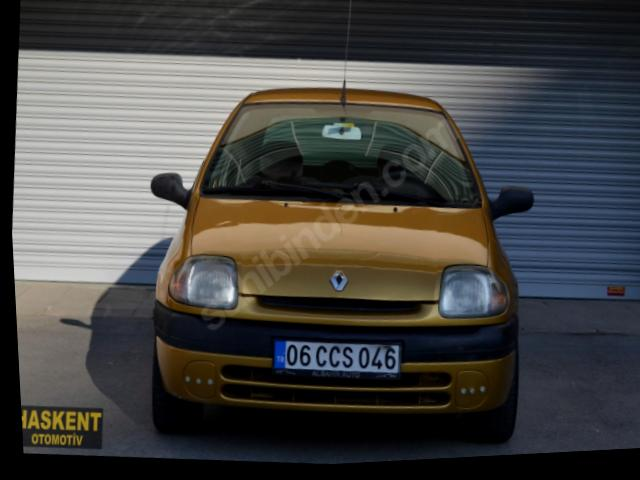plaka: (272, 340, 400, 379)
